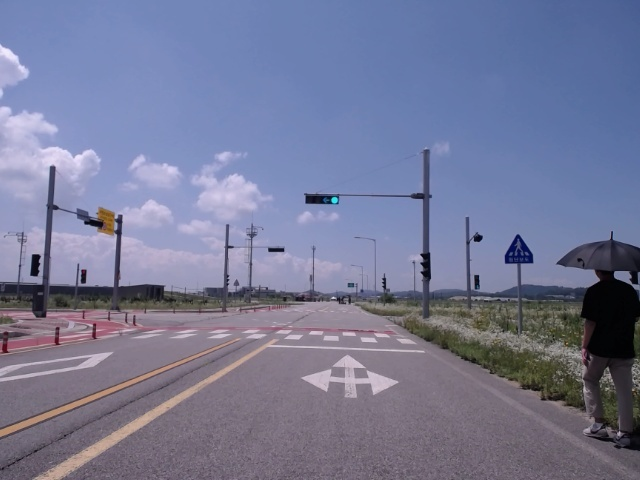all_green_4: (307, 193, 338, 203)
